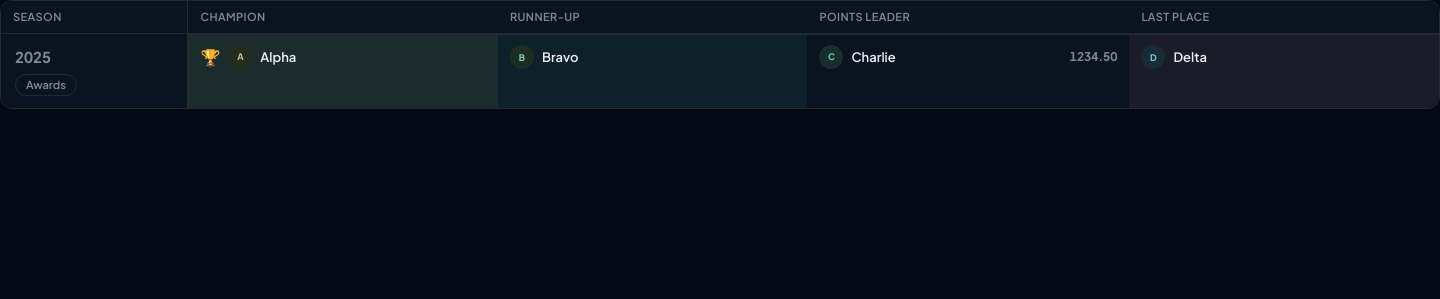
Test case: past award winners (US4) › hides an unavailable Trending Tony but still shows an available one (spec 051 F8)
This screenshot has width=1440, height=299.
Click the button "Awards" at (46, 85), box [15,74,77,96]
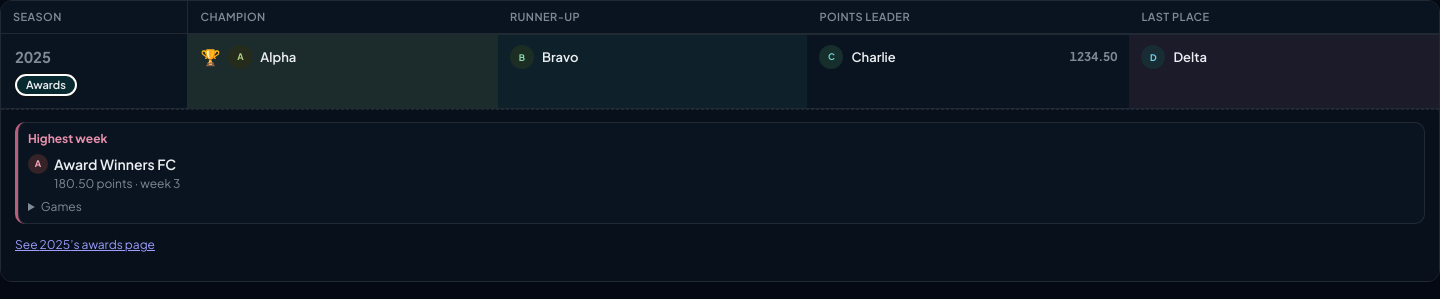
Expected: the heading "Highest week" is shown, [28,131,108,146]
